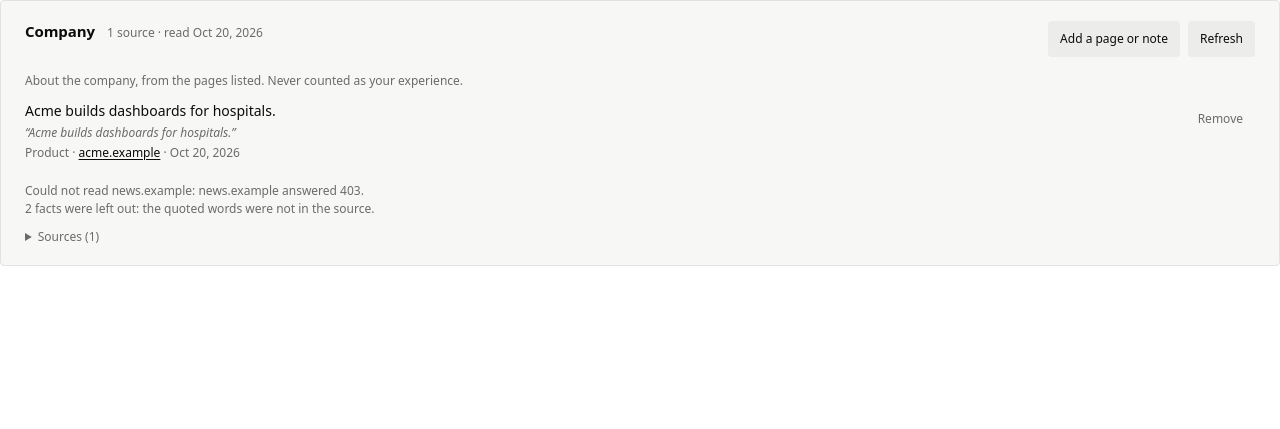
Test case: CompanyTile › adds a link as a page and removes a fact
Click the button "Add a page or note": (1114, 39) [1048,21,1180,57]
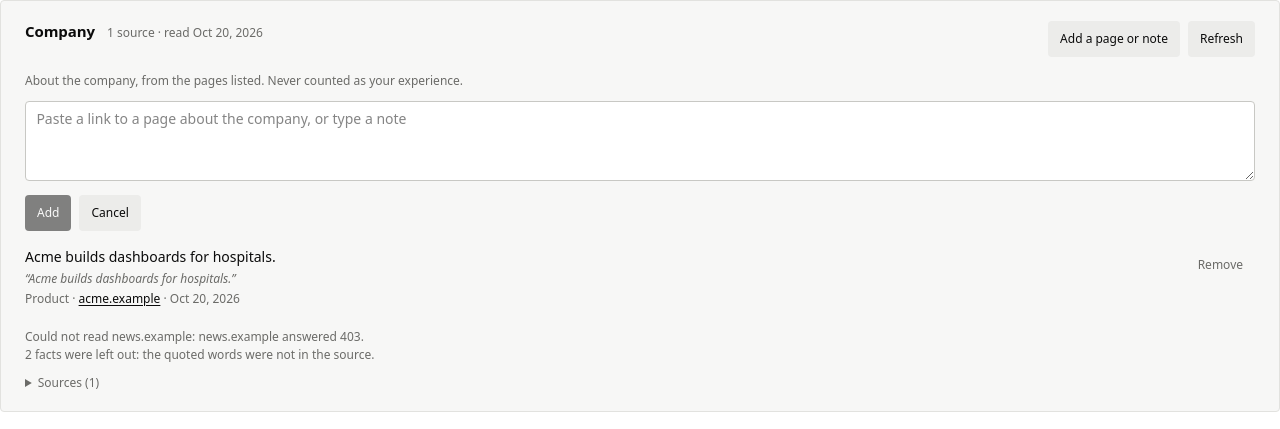
In the text box named "A link or a note about the company": (640, 141) [25,101,1255,181], type "acme.example/team"
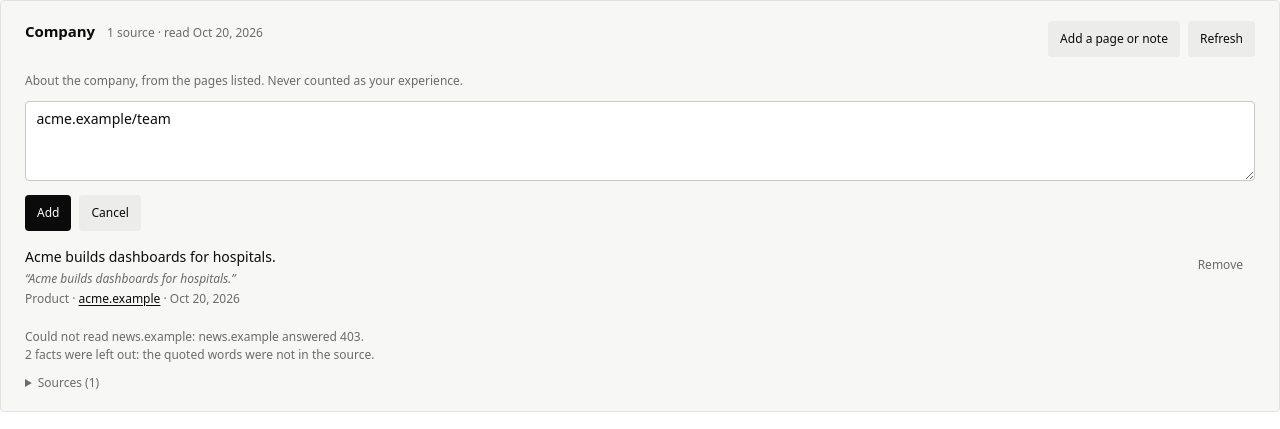
Click the button "Add": (48, 213) [25,195,71,231]
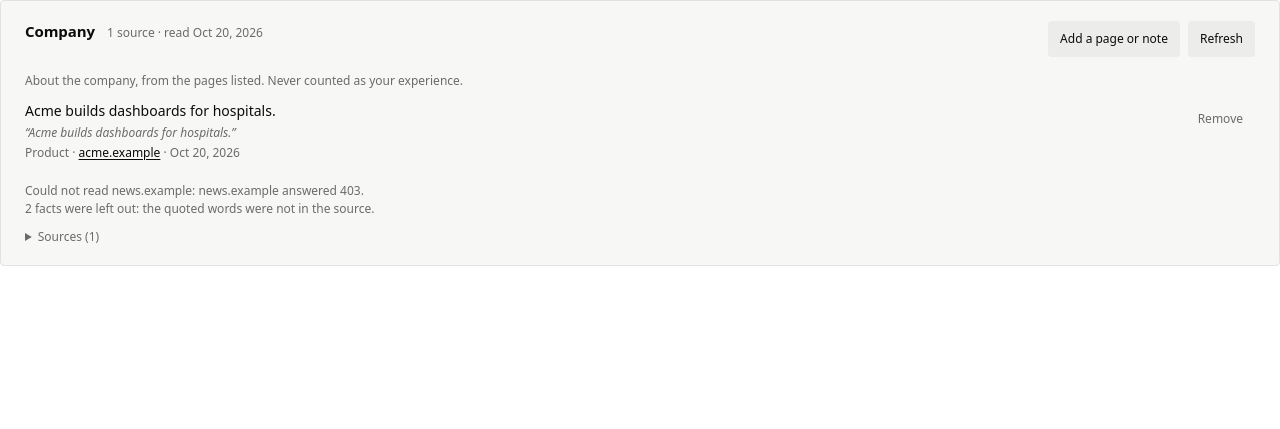
Click the button with aria-label "Remove: Acme builds": (1220, 119) [1186,101,1255,137]
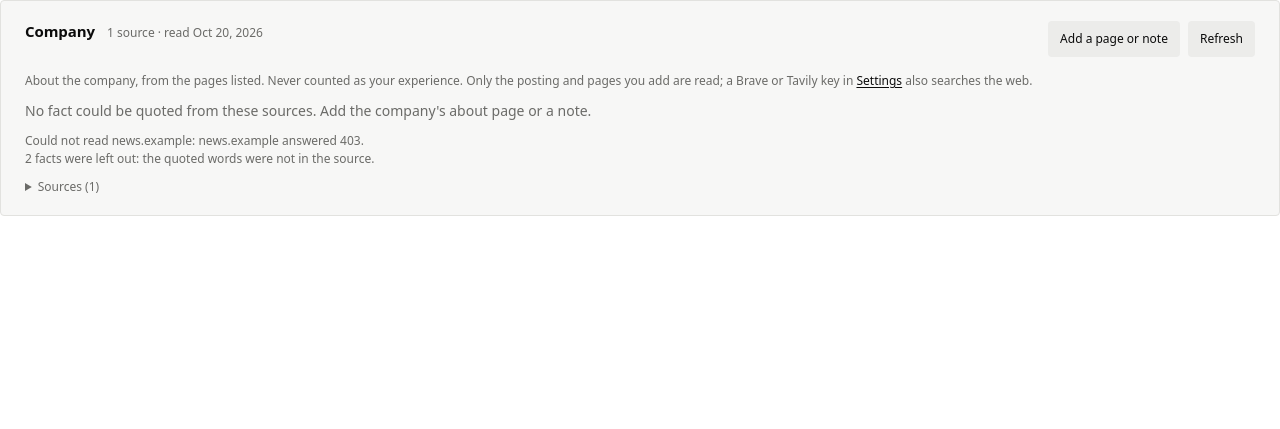
Expected: the text "No fact could be quoted" is shown, [25,101,591,120]
